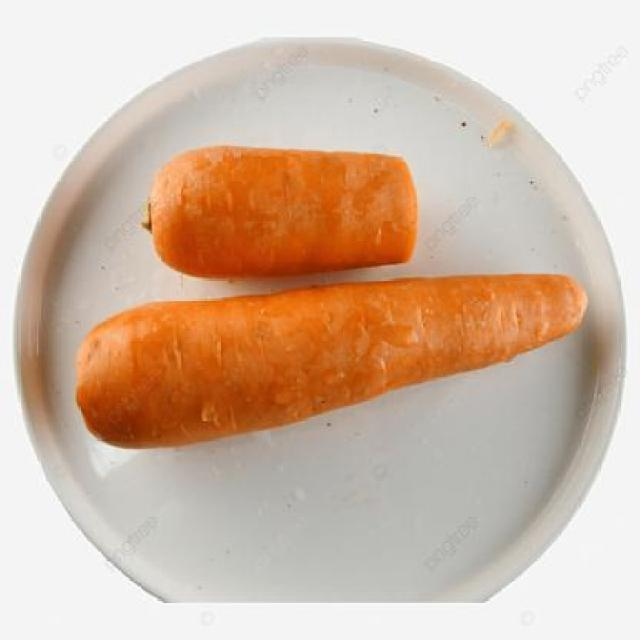carrot: (72, 272, 593, 458), (141, 144, 421, 273)
